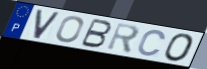B: (78, 18, 114, 49)
C: (136, 29, 168, 57)
O: (163, 33, 195, 63), (55, 15, 85, 43)
R: (105, 22, 141, 56)
V: (32, 8, 62, 41)
